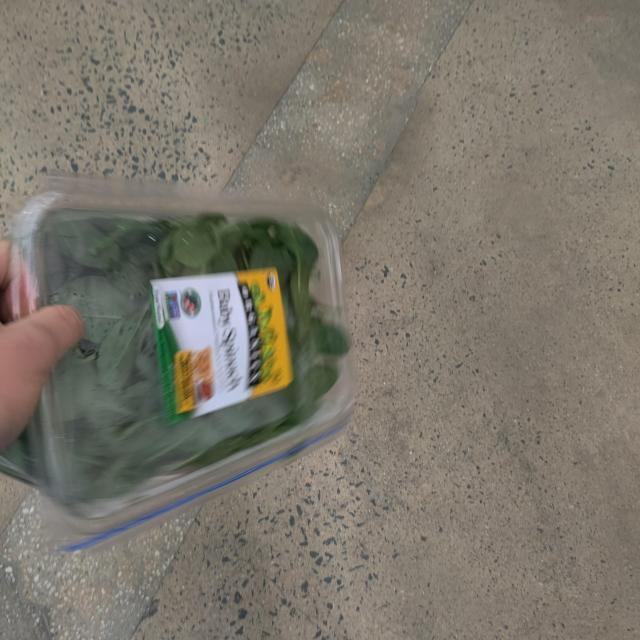Spinach: (11, 168, 373, 500)
